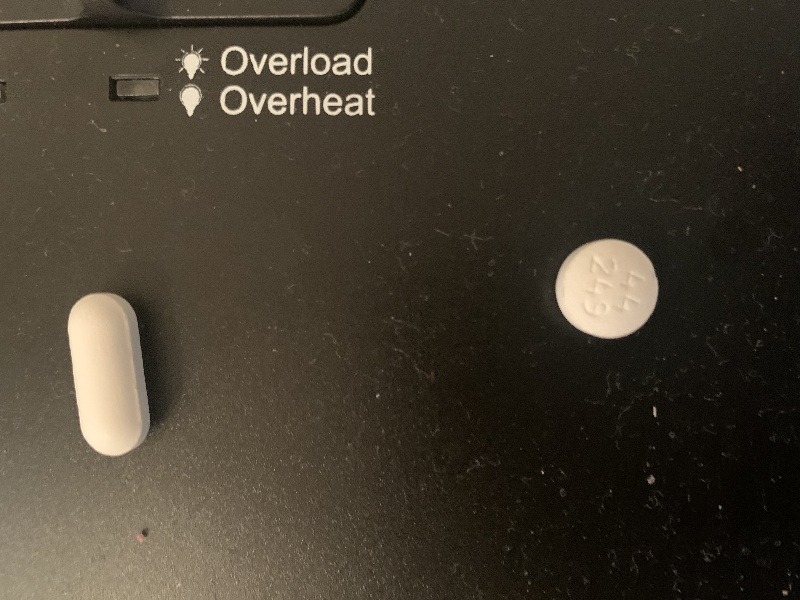Aspirin: (555, 235, 661, 339)
Tylenol: (58, 289, 159, 464)
